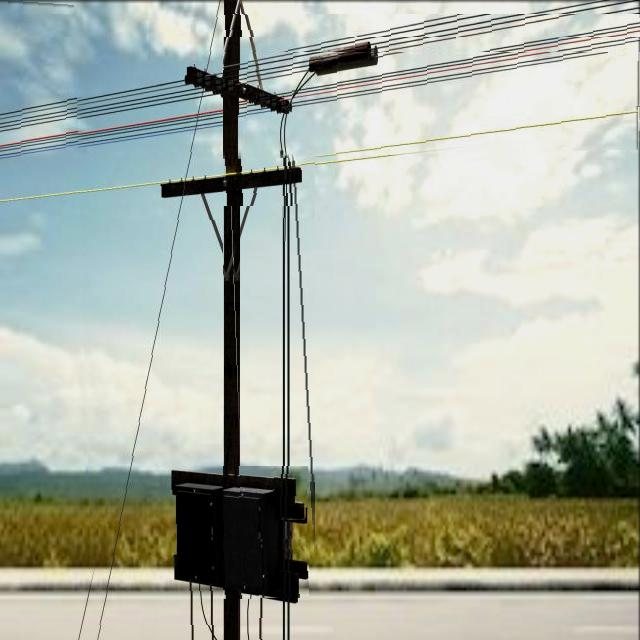crossarm: (156, 539, 309, 599), (156, 466, 307, 521), (182, 70, 295, 125), (154, 166, 299, 198)
pole: (224, 0, 240, 564)
transformer: (164, 484, 210, 565), (229, 488, 274, 567)
wire: (90, 0, 223, 640), (6, 14, 608, 134), (0, 52, 639, 164), (1, 37, 607, 150), (0, 31, 611, 119), (2, 125, 637, 206), (290, 77, 315, 639), (281, 71, 309, 153), (283, 184, 286, 292), (191, 584, 196, 639), (258, 596, 264, 639), (171, 582, 175, 637)
